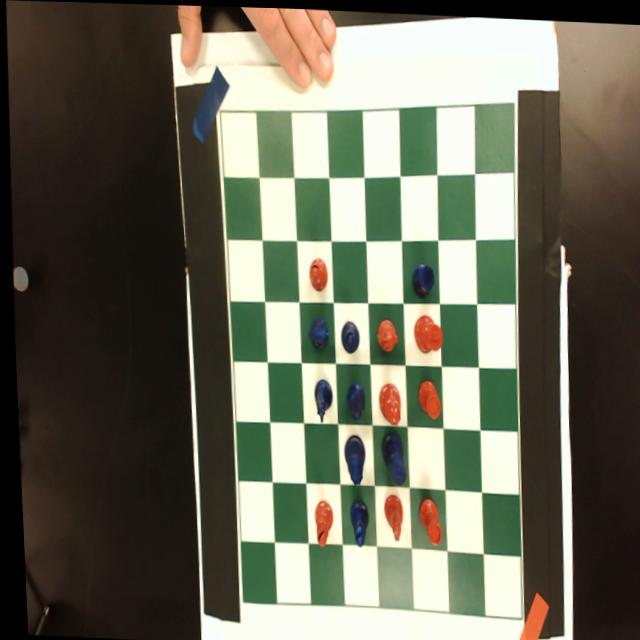B: (343, 496, 365, 548), (336, 317, 359, 353)
K: (375, 425, 402, 485)
N: (308, 376, 331, 425), (301, 313, 330, 351)
Q: (338, 432, 363, 485)
R: (339, 377, 364, 420), (408, 257, 434, 298)
b: (307, 495, 330, 547), (306, 254, 326, 290)
k: (409, 309, 441, 352)
n: (376, 491, 401, 541), (371, 313, 397, 354)
q: (372, 379, 399, 425)
r: (411, 493, 438, 543), (413, 376, 439, 419)
